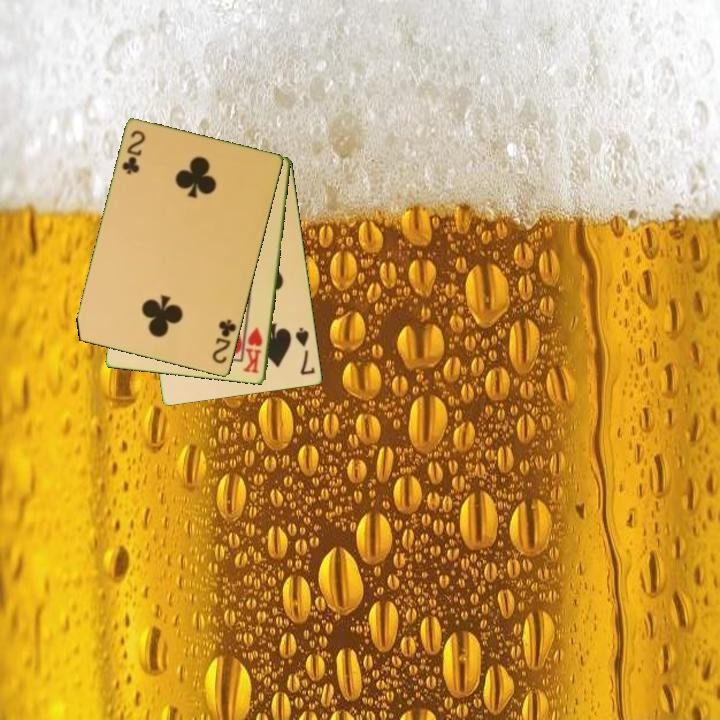2c: (209, 316, 240, 367), (119, 127, 148, 178)
7s: (292, 324, 318, 378)
Kh: (240, 324, 266, 376)
